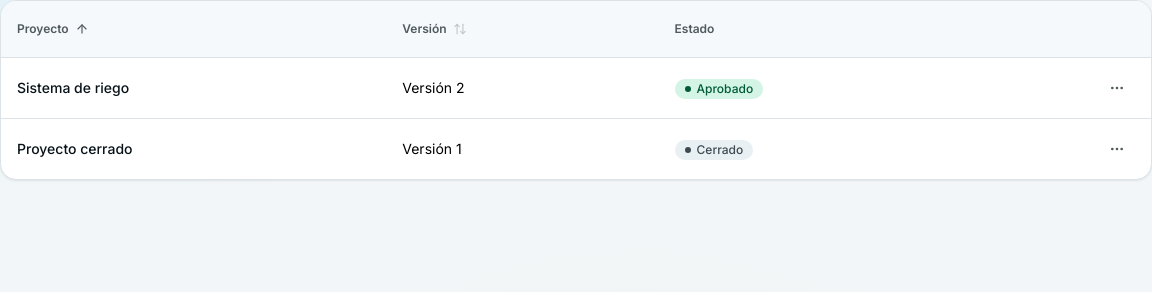
Test: EntregablesAsesorTable › ofrece "Cambiar estado" en un entregable activo y lo deshabilita en uno terminal
Click the button named "Acciones del entregable de Sistema de riego" at (1117, 88), box [1099, 70, 1135, 106]
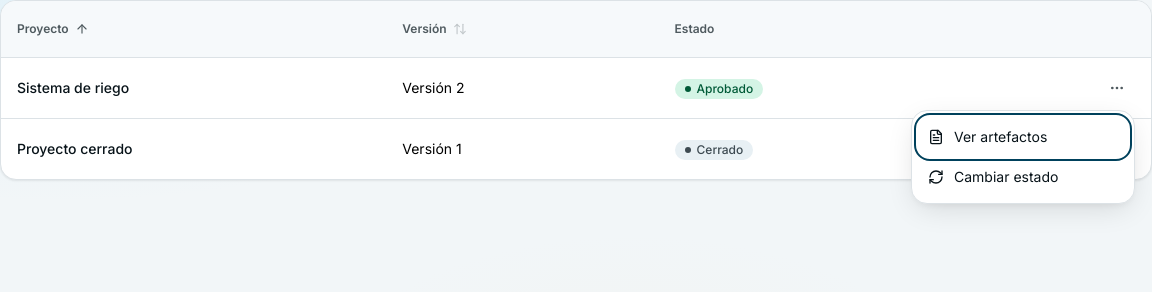
Click the menu item "Cambiar estado" at (1023, 177), box [918, 157, 1128, 197]
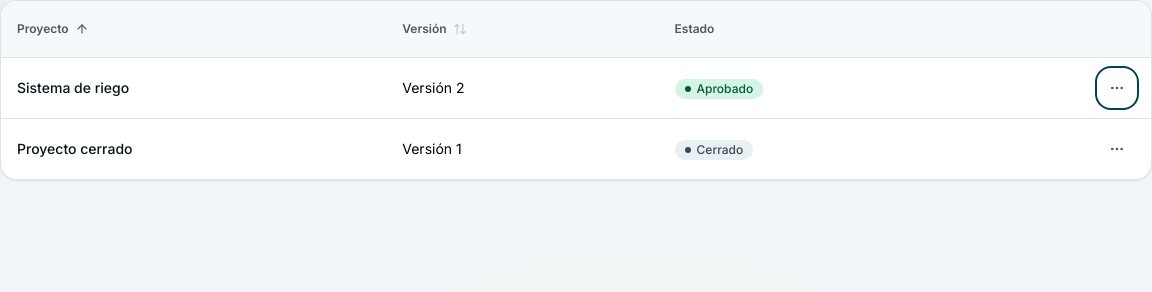
Click the button named "Acciones del entregable de Proyecto cerrado" at (1117, 149), box [1099, 131, 1135, 167]
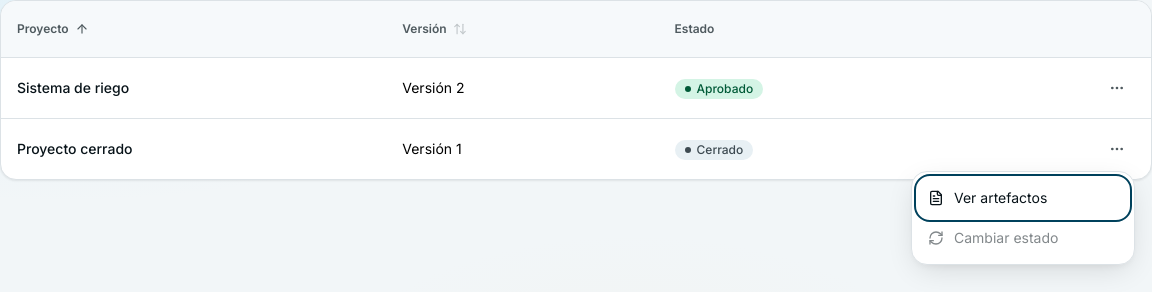
Now the menu item "Cambiar estado" is disabled, box [918, 218, 1128, 258]
